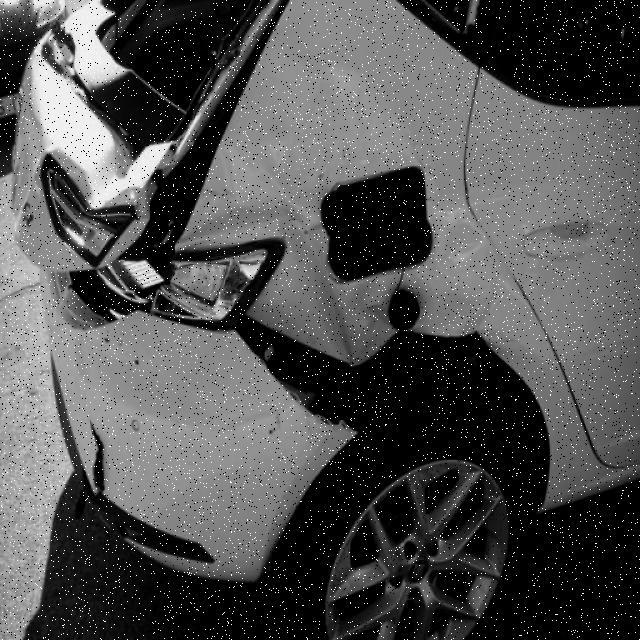car damage: (176, 71, 533, 389), (14, 50, 201, 272), (95, 0, 279, 112), (91, 417, 109, 496)
